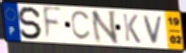C: (70, 10, 92, 42)
F: (42, 6, 64, 43)
K: (121, 12, 142, 45)
N: (90, 10, 120, 45)
S: (17, 6, 44, 41)
V: (142, 15, 165, 45)
